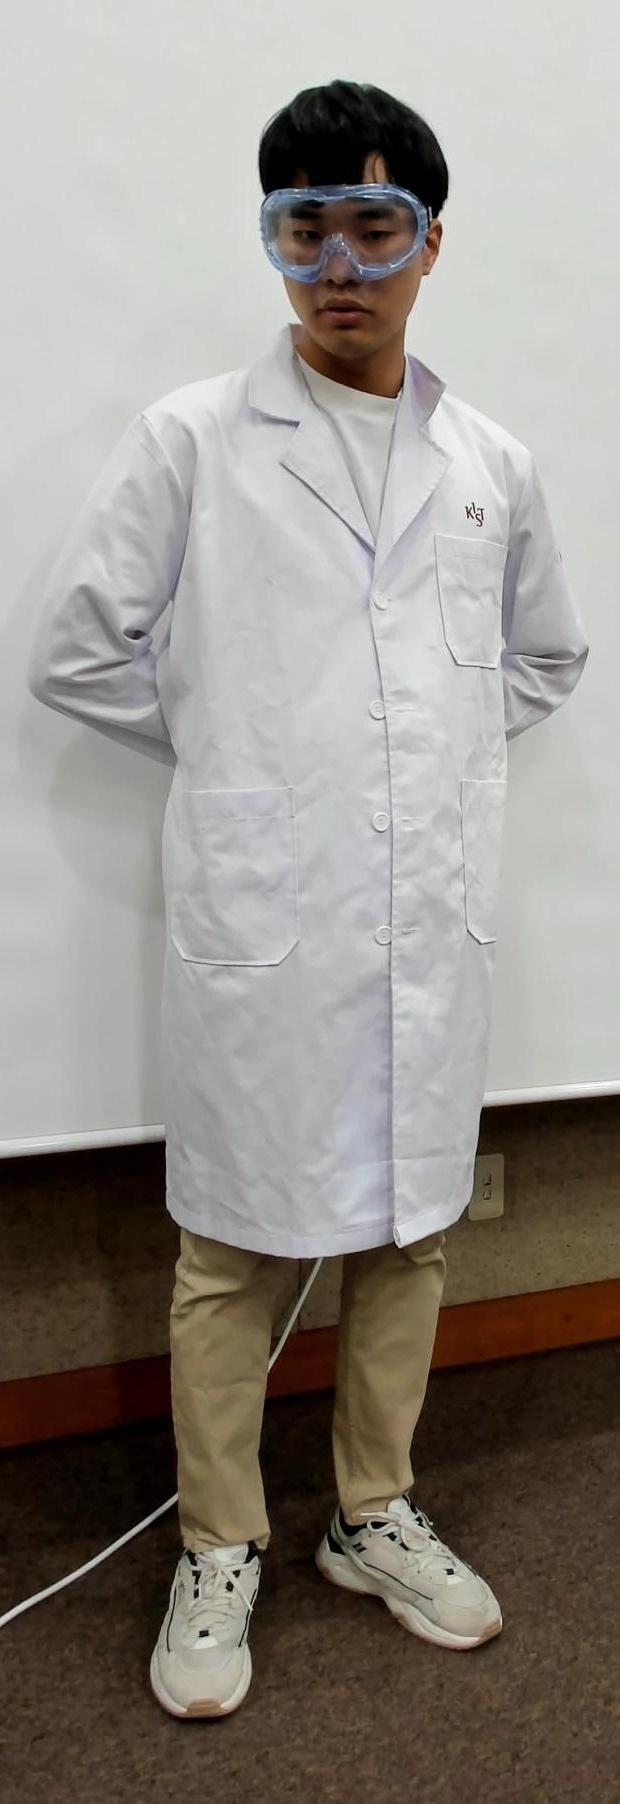lab_coat: (137, 381, 498, 1255)
